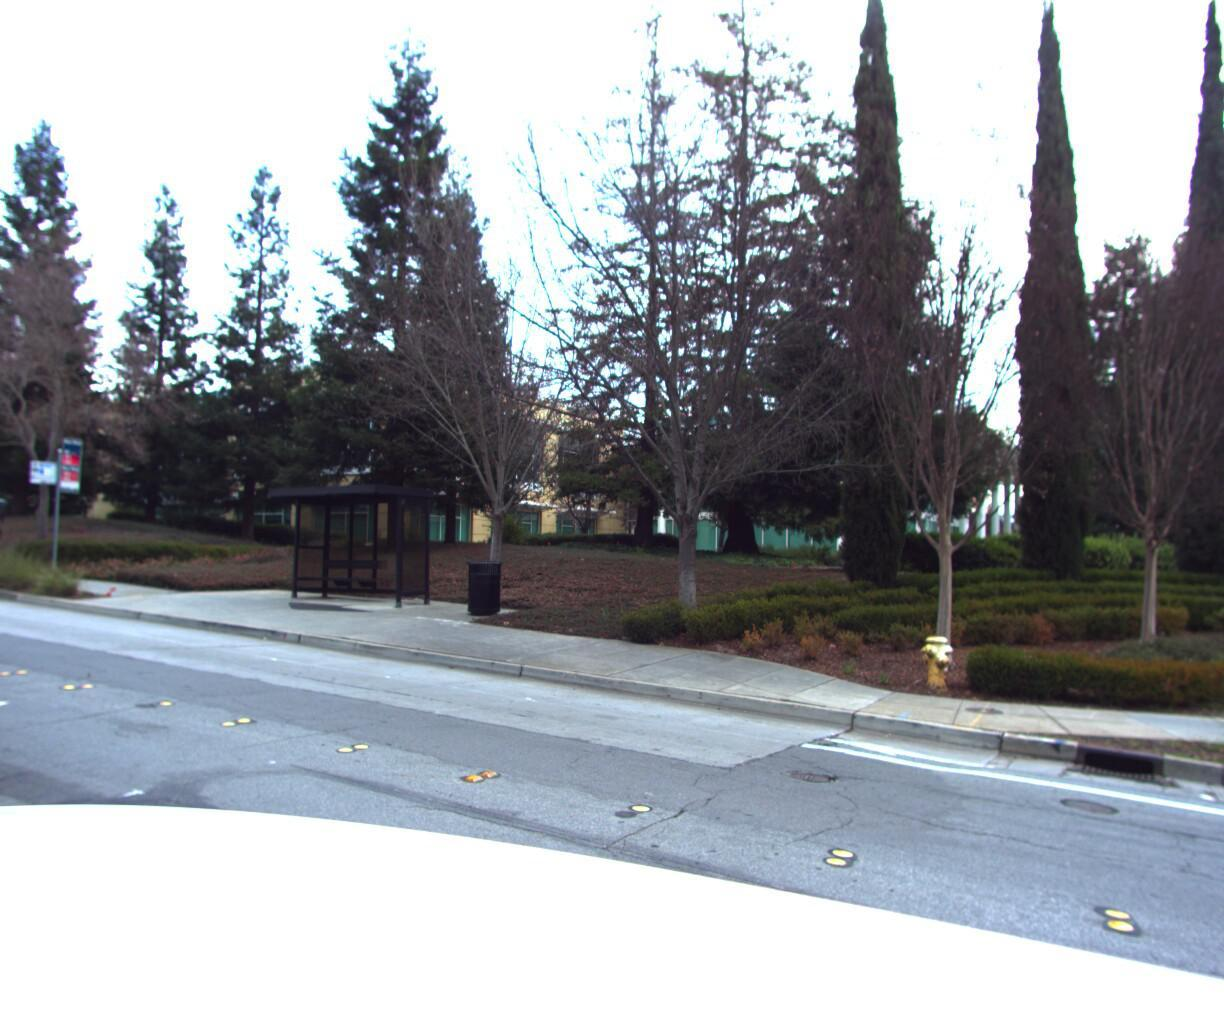bus: (0, 231, 64, 725)
